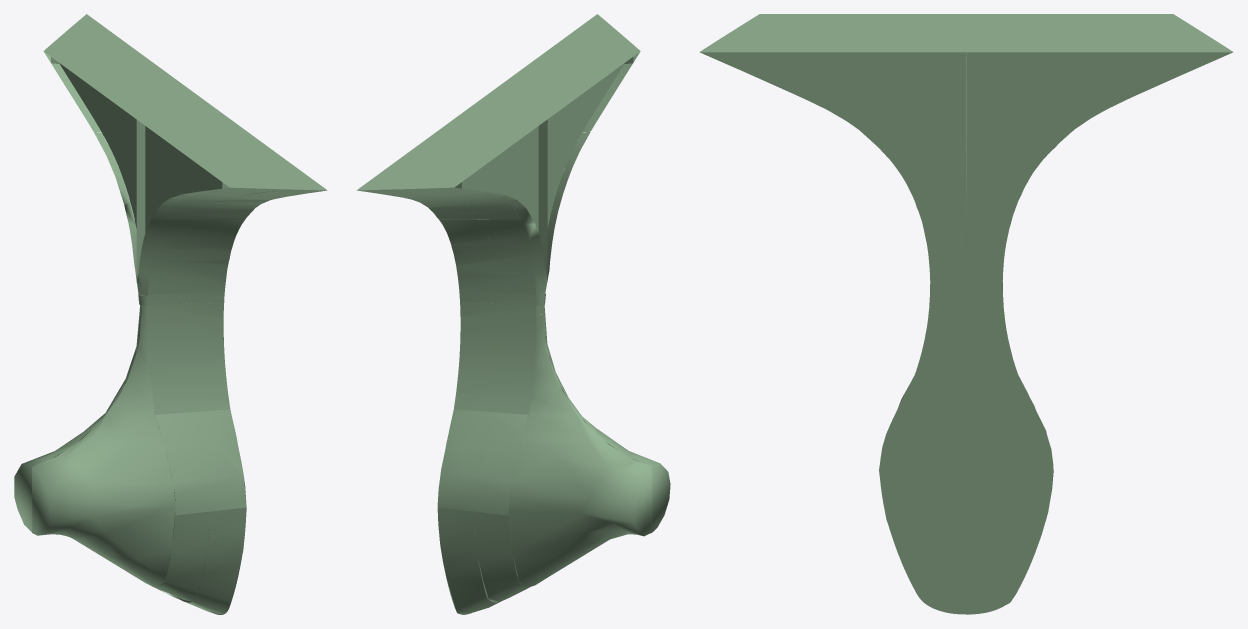
File: AFT_VOID_SPACE.glb
3 renders of one model, left to right at view 1: azimuth 30°, elevation 25°; view 2: azimuth 150°, elevation 25°; view 3: azimuth 270°, elevation 25°, orthographic. The views are drawn at different scales.
Parts seen in each view (by area): view 1: PL_OuterShellxAPTS_023001-36_NVA_1993, PL_OuterShellxEPRS_011001-36_NVA_1993, PL_OuterShellxEPRS_004001-36_NVA_1993, PL_OuterShellxEPRS_002001-36_NVA_1993, PL_3rdDeckxEPRS_028001-12.5_NVA_1993, PL_3rdDeckxEPRP_029001-12.5_NVA_1993, PL_OuterShellxEPRS_014001-36_NVA_1993, PL_TransBHDxBHD13S_009001-26.5_NVA_1993, PL_TransBHDxBHD13P_009001-26.5_NVA_1993, PL_OuterShellxEPRS_013001-36_NVA_1993, PL_OuterShellxAPTP_023001-36_NVA_1993, PL_OuterShellxAPTS_002004-36_NVA_1993 (+8 smaller); view 2: PL_OuterShellxAPTP_023001-36_NVA_1993, PL_OuterShellxEPRP_011001-36_NVA_1993, PL_OuterShellxEPRP_004001-36_NVA_1993, PL_OuterShellxEPRP_002001-36_NVA_1993, PL_3rdDeckxEPRP_029001-12.5_NVA_1993, PL_3rdDeckxEPRS_028001-12.5_NVA_1993, PL_OuterShellxEPRP_014001-36_NVA_1993, PL_TransBHDxBHD13P_009001-26.5_NVA_1993, PL_TransBHDxBHD13S_009001-26.5_NVA_1993, PL_OuterShellxEPRP_013001-36_NVA_1993, PL_OuterShellxAPTS_023001-36_NVA_1993, PL_OuterShellxAPTP_024006-36_NVA_1993 (+8 smaller); view 3: PL_TransxFR15P_003001-12_NVA_1993, PL_TransxFR15S_003001-12_NVA_1993, PL_TransxFR15P_004001-12_NVA_1993, PL_TransxFR15S_004001-12_NVA_1993, PL_3rdDeckxEPRP_029001-12.5_NVA_1993, PL_3rdDeckxEPRS_028001-12.5_NVA_1993, PL_TransxFR15P_005001-15_NVA_1993, PL_TransxFR15S_005001-15_NVA_1993, PL_3rdDeckxAPTP_009005-12_NVA_1993, PL_3rdDeckxAPTS_009003-12_NVA_1993, PL_TransxFR15P_003002-12_NVA_1993, PL_TransxFR15S_003002-12_NVA_1993.
Part boxes in pixels (box(x1,y1,x2,y2)): PL_OuterShellxAPTS_023001-36_NVA_1993: box(32, 305, 175, 587); PL_OuterShellxEPRS_011001-36_NVA_1993: box(147, 301, 230, 414); PL_OuterShellxEPRS_004001-36_NVA_1993: box(155, 409, 246, 515); PL_OuterShellxEPRS_002001-36_NVA_1993: box(154, 507, 246, 614); PL_3rdDeckxEPRS_028001-12.5_NVA_1993: box(146, 102, 326, 190); PL_3rdDeckxEPRP_029001-12.5_NVA_1993: box(49, 14, 206, 117); PL_OuterShellxEPRS_014001-36_NVA_1993: box(148, 219, 244, 294); PL_TransBHDxBHD13S_009001-26.5_NVA_1993: box(145, 126, 222, 232); PL_TransBHDxBHD13P_009001-26.5_NVA_1993: box(59, 63, 136, 228); PL_OuterShellxEPRS_013001-36_NVA_1993: box(163, 194, 284, 219); PL_OuterShellxAPTP_023001-36_NVA_1993: box(14, 305, 140, 531); PL_OuterShellxAPTS_002004-36_NVA_1993: box(136, 195, 187, 295); PL_OuterShellxAPTP_023001-36_NVA_1993: box(508, 305, 651, 587); PL_OuterShellxEPRP_011001-36_NVA_1993: box(454, 301, 536, 414); PL_OuterShellxEPRP_004001-36_NVA_1993: box(437, 409, 528, 515); PL_OuterShellxEPRP_002001-36_NVA_1993: box(437, 507, 530, 613); PL_3rdDeckxEPRP_029001-12.5_NVA_1993: box(357, 102, 538, 190); PL_3rdDeckxEPRS_028001-12.5_NVA_1993: box(477, 14, 634, 117); PL_OuterShellxEPRP_014001-36_NVA_1993: box(439, 219, 535, 294); PL_TransBHDxBHD13P_009001-26.5_NVA_1993: box(462, 126, 538, 232); PL_TransBHDxBHD13S_009001-26.5_NVA_1993: box(547, 63, 624, 227); PL_OuterShellxEPRP_013001-36_NVA_1993: box(401, 194, 520, 219); PL_OuterShellxAPTS_023001-36_NVA_1993: box(544, 305, 670, 570); PL_OuterShellxAPTP_024006-36_NVA_1993: box(496, 195, 547, 295); PL_TransxFR15P_003001-12_NVA_1993: box(966, 52, 1194, 247); PL_TransxFR15S_003001-12_NVA_1993: box(738, 52, 966, 247); PL_TransxFR15P_004001-12_NVA_1993: box(966, 268, 1053, 512); PL_TransxFR15S_004001-12_NVA_1993: box(879, 268, 966, 512); PL_3rdDeckxEPRP_029001-12.5_NVA_1993: box(966, 18, 1233, 52); PL_3rdDeckxEPRS_028001-12.5_NVA_1993: box(699, 18, 966, 52); PL_TransxFR15P_005001-15_NVA_1993: box(966, 512, 1047, 614); PL_TransxFR15S_005001-15_NVA_1993: box(885, 512, 966, 614); PL_3rdDeckxAPTP_009005-12_NVA_1993: box(966, 14, 1180, 18); PL_3rdDeckxAPTS_009003-12_NVA_1993: box(752, 14, 966, 18); PL_TransxFR15P_003002-12_NVA_1993: box(966, 247, 1005, 268); PL_TransxFR15S_003002-12_NVA_1993: box(927, 247, 966, 268).
Size of the model in its own units: 4.25 by 11.77 by 10.13.
